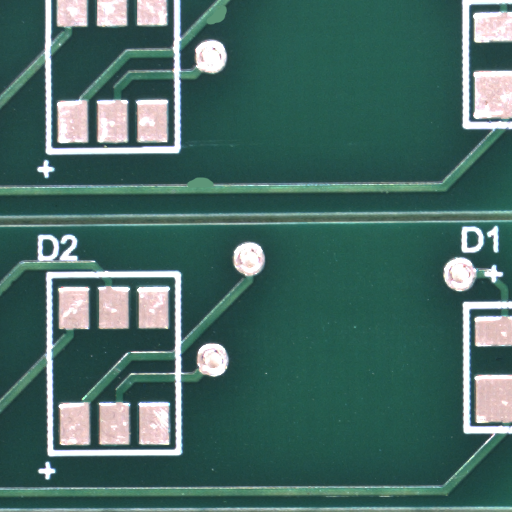Spur: (199, 182, 230, 194), (216, 16, 236, 34)
